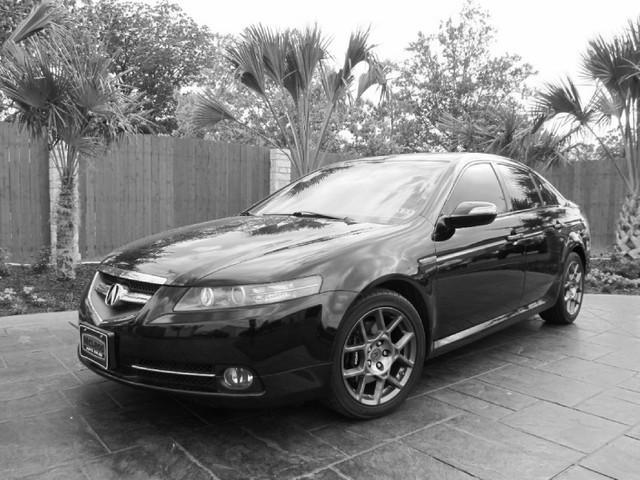car: (78, 153, 594, 421)
